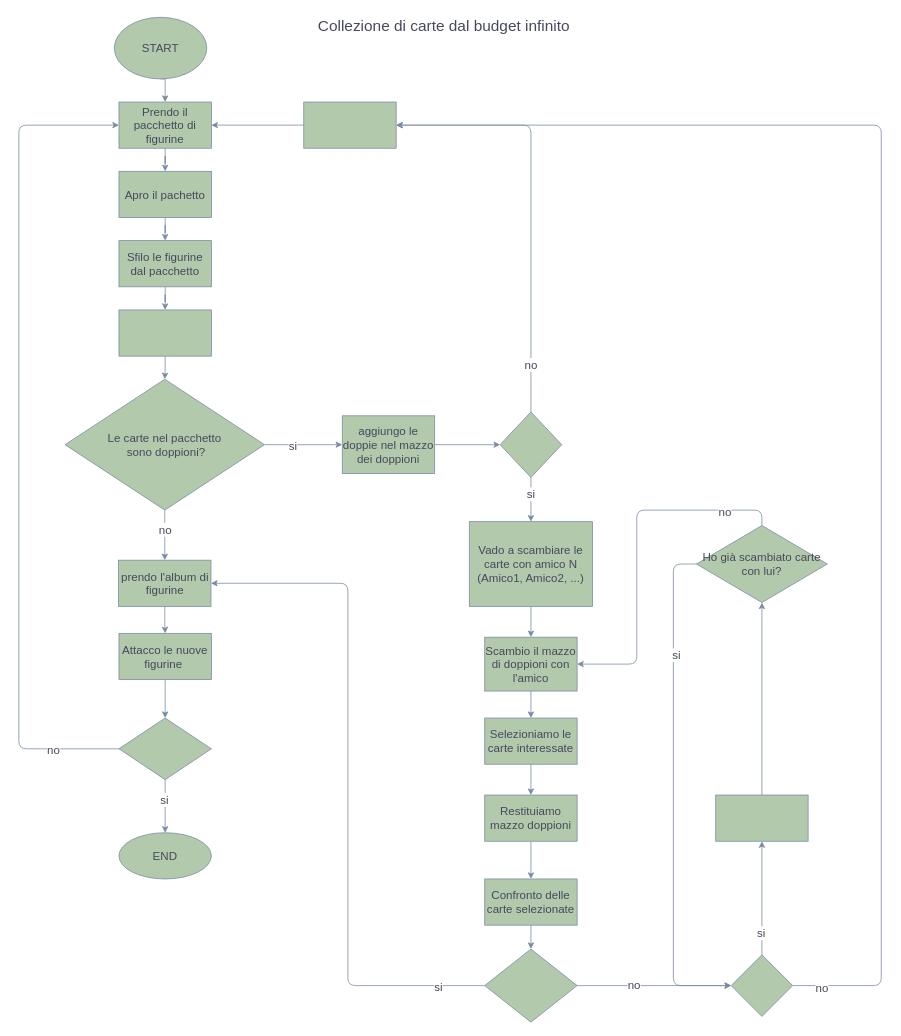
The diagram is 901 pixels wide and 1036 high, and some of its shapes have lost their labels. Each missing label, with the centre of its shape:
butto l'involucro: the point at 164,332
Concludiamo lo scambio?: the point at 530,985
Ho altri amici?: the point at 761,985
Ho amici?: the point at 530,444
L'album è completo?: the point at 164,748
Torno a casa piangendo: the point at 349,124
Vado dal prossimo amico N: the point at 761,817
